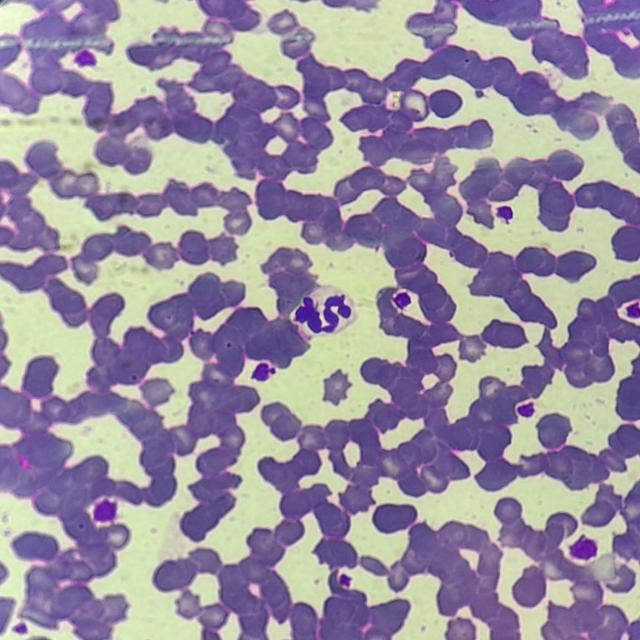Neutrofilo: (287, 279, 361, 347)
